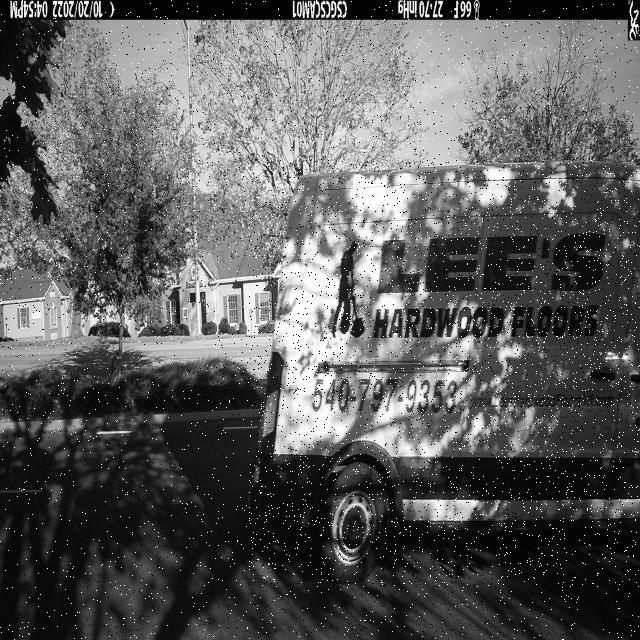Van: (248, 160, 640, 587)
